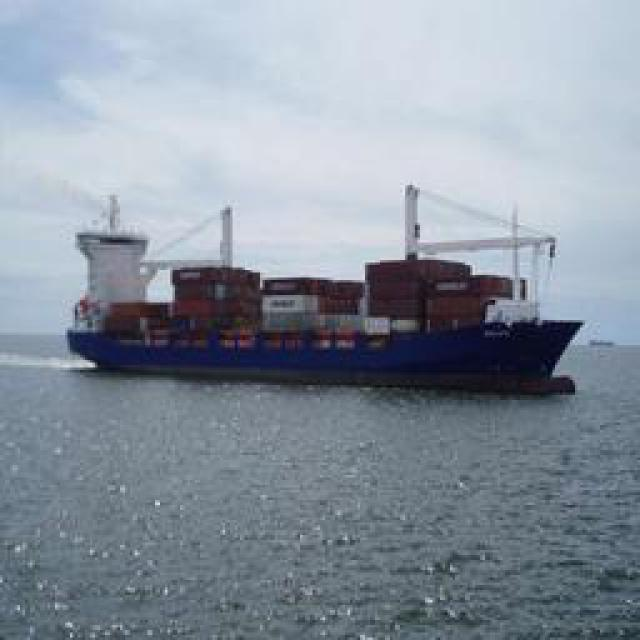Ship: (60, 186, 595, 394)
